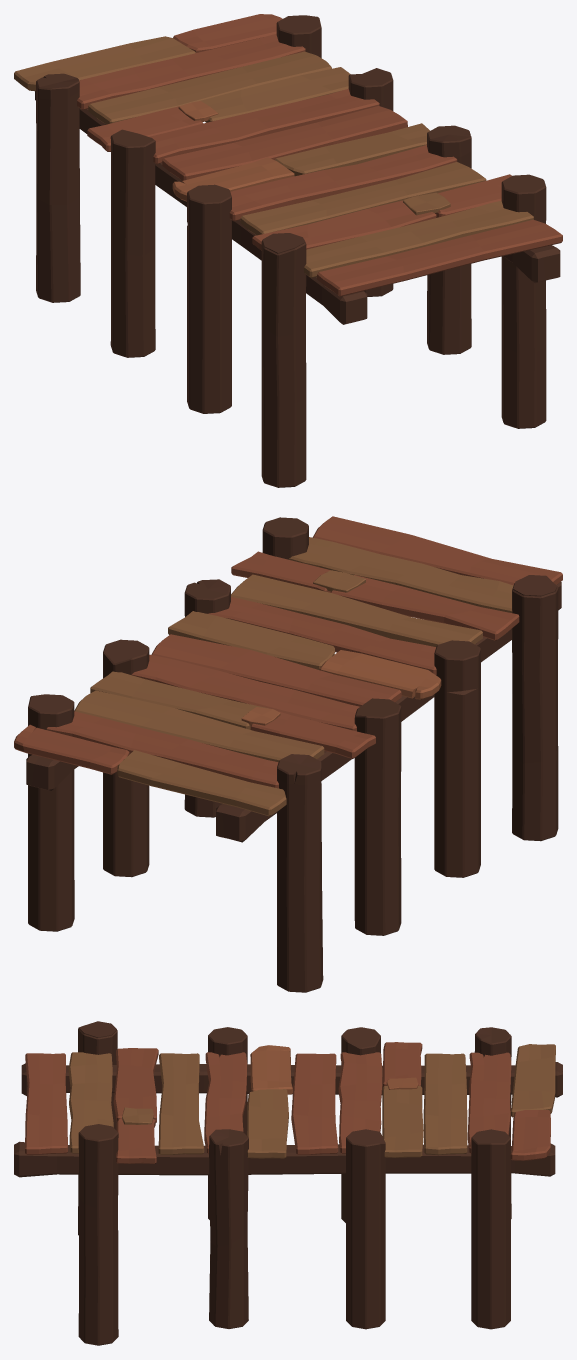
The model's file is Moelle.fbx.
3 renders of one model, top to bottom at view 1: azimuth 30°, elevation 25°; view 2: azimuth 150°, elevation 25°; view 3: azimuth 270°, elevation 25°, orthographic. The views are drawn at different scales.
Parts seen in each view (by area): view 1: Cylinder.003, Cylinder.002, Cylinder.001, Cylinder, Cylinder.007, Cube.014, Cube.006, Cube.008, Cube.015, Cube.007, Cube.002, Cube.009 (+15 smaller); view 2: Cylinder.003, Cylinder.002, Cylinder.001, Cylinder, Cylinder.004, Cube.009, Cube.006, Cube.002, Cube.015, Cylinder.005, Cube.020, Cube.007 (+15 smaller); view 3: Cylinder.007, Cylinder.004, Cylinder.005, Cube.017, Cylinder.006, Cube.002, Cube.006, Cube.014, Cube.009, Cube.007, Cube.015, Cube.020 (+15 smaller).
Boxes of the visible parts, x1=… form: Cylinder.003: x1=261, y1=233, x2=306, y2=487; Cylinder.002: x1=187, y1=184, x2=231, y2=413; Cylinder.001: x1=110, y1=129, x2=155, y2=357; Cylinder: x1=36, y1=73, x2=80, y2=302; Cylinder.007: x1=501, y1=174, x2=546, y2=428; Cube.014: x1=317, y1=219, x2=562, y2=296; Cube.006: x1=162, y1=106, x2=407, y2=180; Cube.008: x1=229, y1=145, x2=457, y2=221; Cube.015: x1=304, y1=200, x2=533, y2=277; Cube.007: x1=149, y1=88, x2=379, y2=164; Cube.002: x1=88, y1=51, x2=331, y2=124; Cube.009: x1=240, y1=162, x2=486, y2=235; Cylinder.003: x1=512, y1=575, x2=558, y2=841; Cylinder.002: x1=434, y1=640, x2=480, y2=877; Cylinder.001: x1=354, y1=698, x2=401, y2=935; Cylinder: x1=277, y1=754, x2=323, y2=992; Cylinder.004: x1=28, y1=694, x2=74, y2=931; Cube.009: x1=231, y1=574, x2=482, y2=646; Cube.006: x1=151, y1=634, x2=401, y2=706; Cube.002: x1=74, y1=690, x2=324, y2=762; Cube.015: x1=289, y1=537, x2=513, y2=612; Cylinder.005: x1=103, y1=639, x2=149, y2=877; Cube.020: x1=46, y1=711, x2=278, y2=788; Cube.007: x1=131, y1=654, x2=359, y2=731; Cylinder.007: x1=78, y1=1124, x2=118, y2=1345; Cylinder.004: x1=471, y1=1129, x2=510, y2=1329; Cylinder.005: x1=346, y1=1129, x2=385, y2=1329; Cube.017: x1=14, y1=1141, x2=555, y2=1177; Cylinder.006: x1=209, y1=1129, x2=248, y2=1328; Cube.002: x1=423, y1=1053, x2=467, y2=1155; Cube.006: x1=291, y1=1053, x2=338, y2=1154; Cube.014: x1=25, y1=1053, x2=67, y2=1154; Cube.009: x1=158, y1=1053, x2=204, y2=1154; Cube.007: x1=338, y1=1052, x2=382, y2=1153; Cube.015: x1=68, y1=1052, x2=113, y2=1153; Cube.020: x1=467, y1=1052, x2=511, y2=1153.
Bounding box in the file's own units: 423 × 345 × 824.
